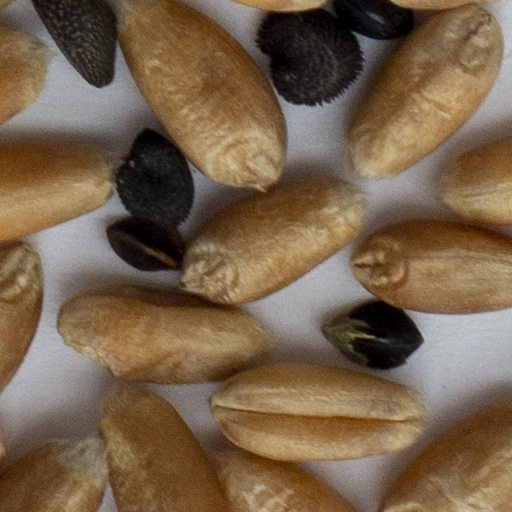Agrostemma-poly: (258, 10, 361, 104), (117, 133, 190, 228)
Convolvulus-poly: (32, 0, 115, 86)
Fallopia-Convolvulus-poly: (324, 301, 422, 368), (108, 219, 181, 269), (339, 0, 412, 39)
